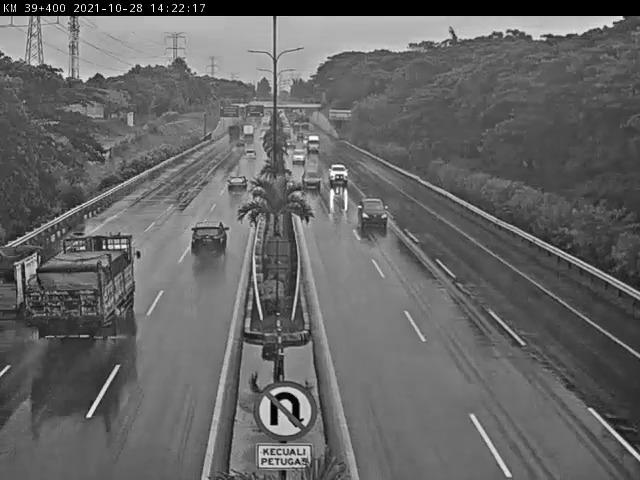car: (189, 220, 229, 258), (355, 196, 395, 231), (327, 162, 354, 190), (299, 165, 325, 192), (227, 174, 248, 195), (291, 149, 307, 165), (244, 147, 257, 162)
small truck: (42, 231, 135, 337), (0, 233, 46, 324)
